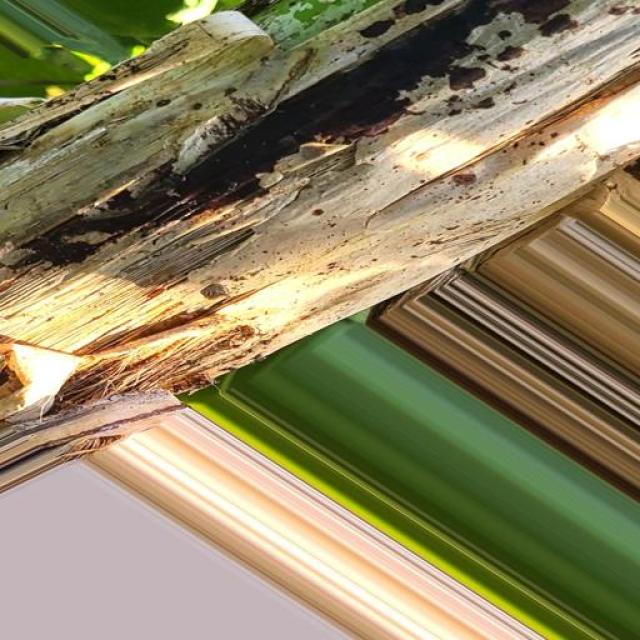Anthracnose: (0, 1, 640, 381)
